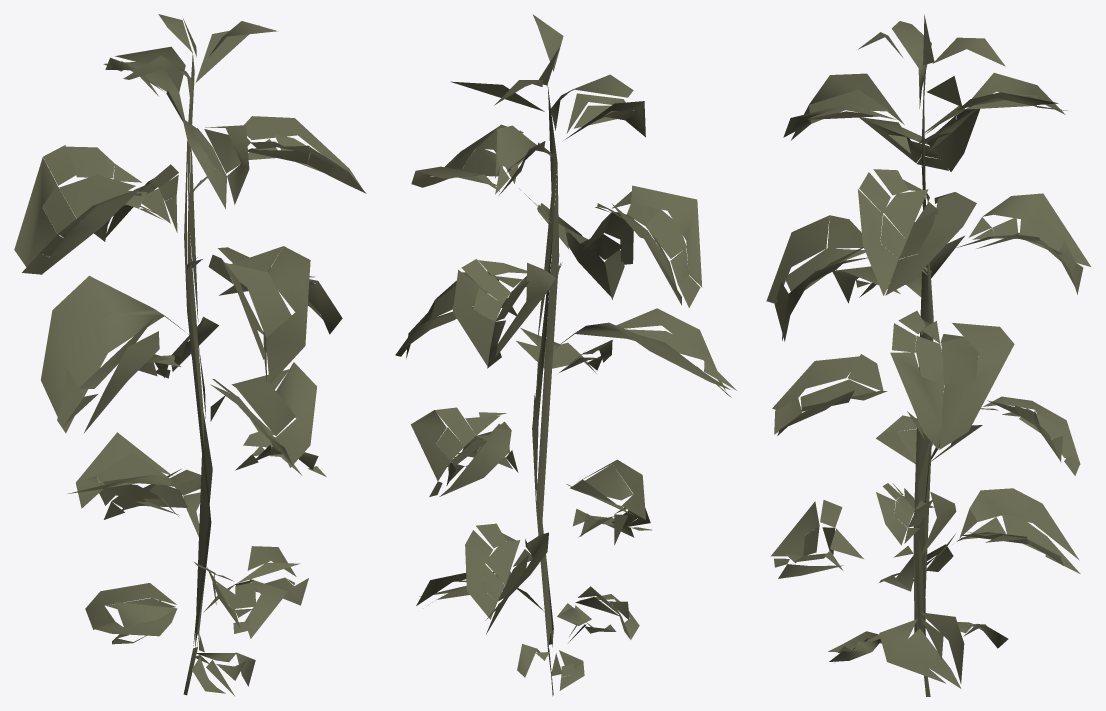
File: nettles-lod1.glb
3 views of the same model, side by side, from view 1: azimuth 30°, elevation 25°; view 2: azimuth 150°, elevation 25°; view 3: azimuth 270°, elevation 25° (orthographic). The views are drawn at different scales.
Parts seen in each view (by area): view 1: nettles; view 2: nettles; view 3: nettles.
Part boxes in pixels (<box>): nettles: <box>14,14,366,696</box>; nettles: <box>395,14,736,696</box>; nettles: <box>766,14,1090,696</box>.
Bounding box in the file's own units: 0.336 × 0.6894 × 0.2984.
